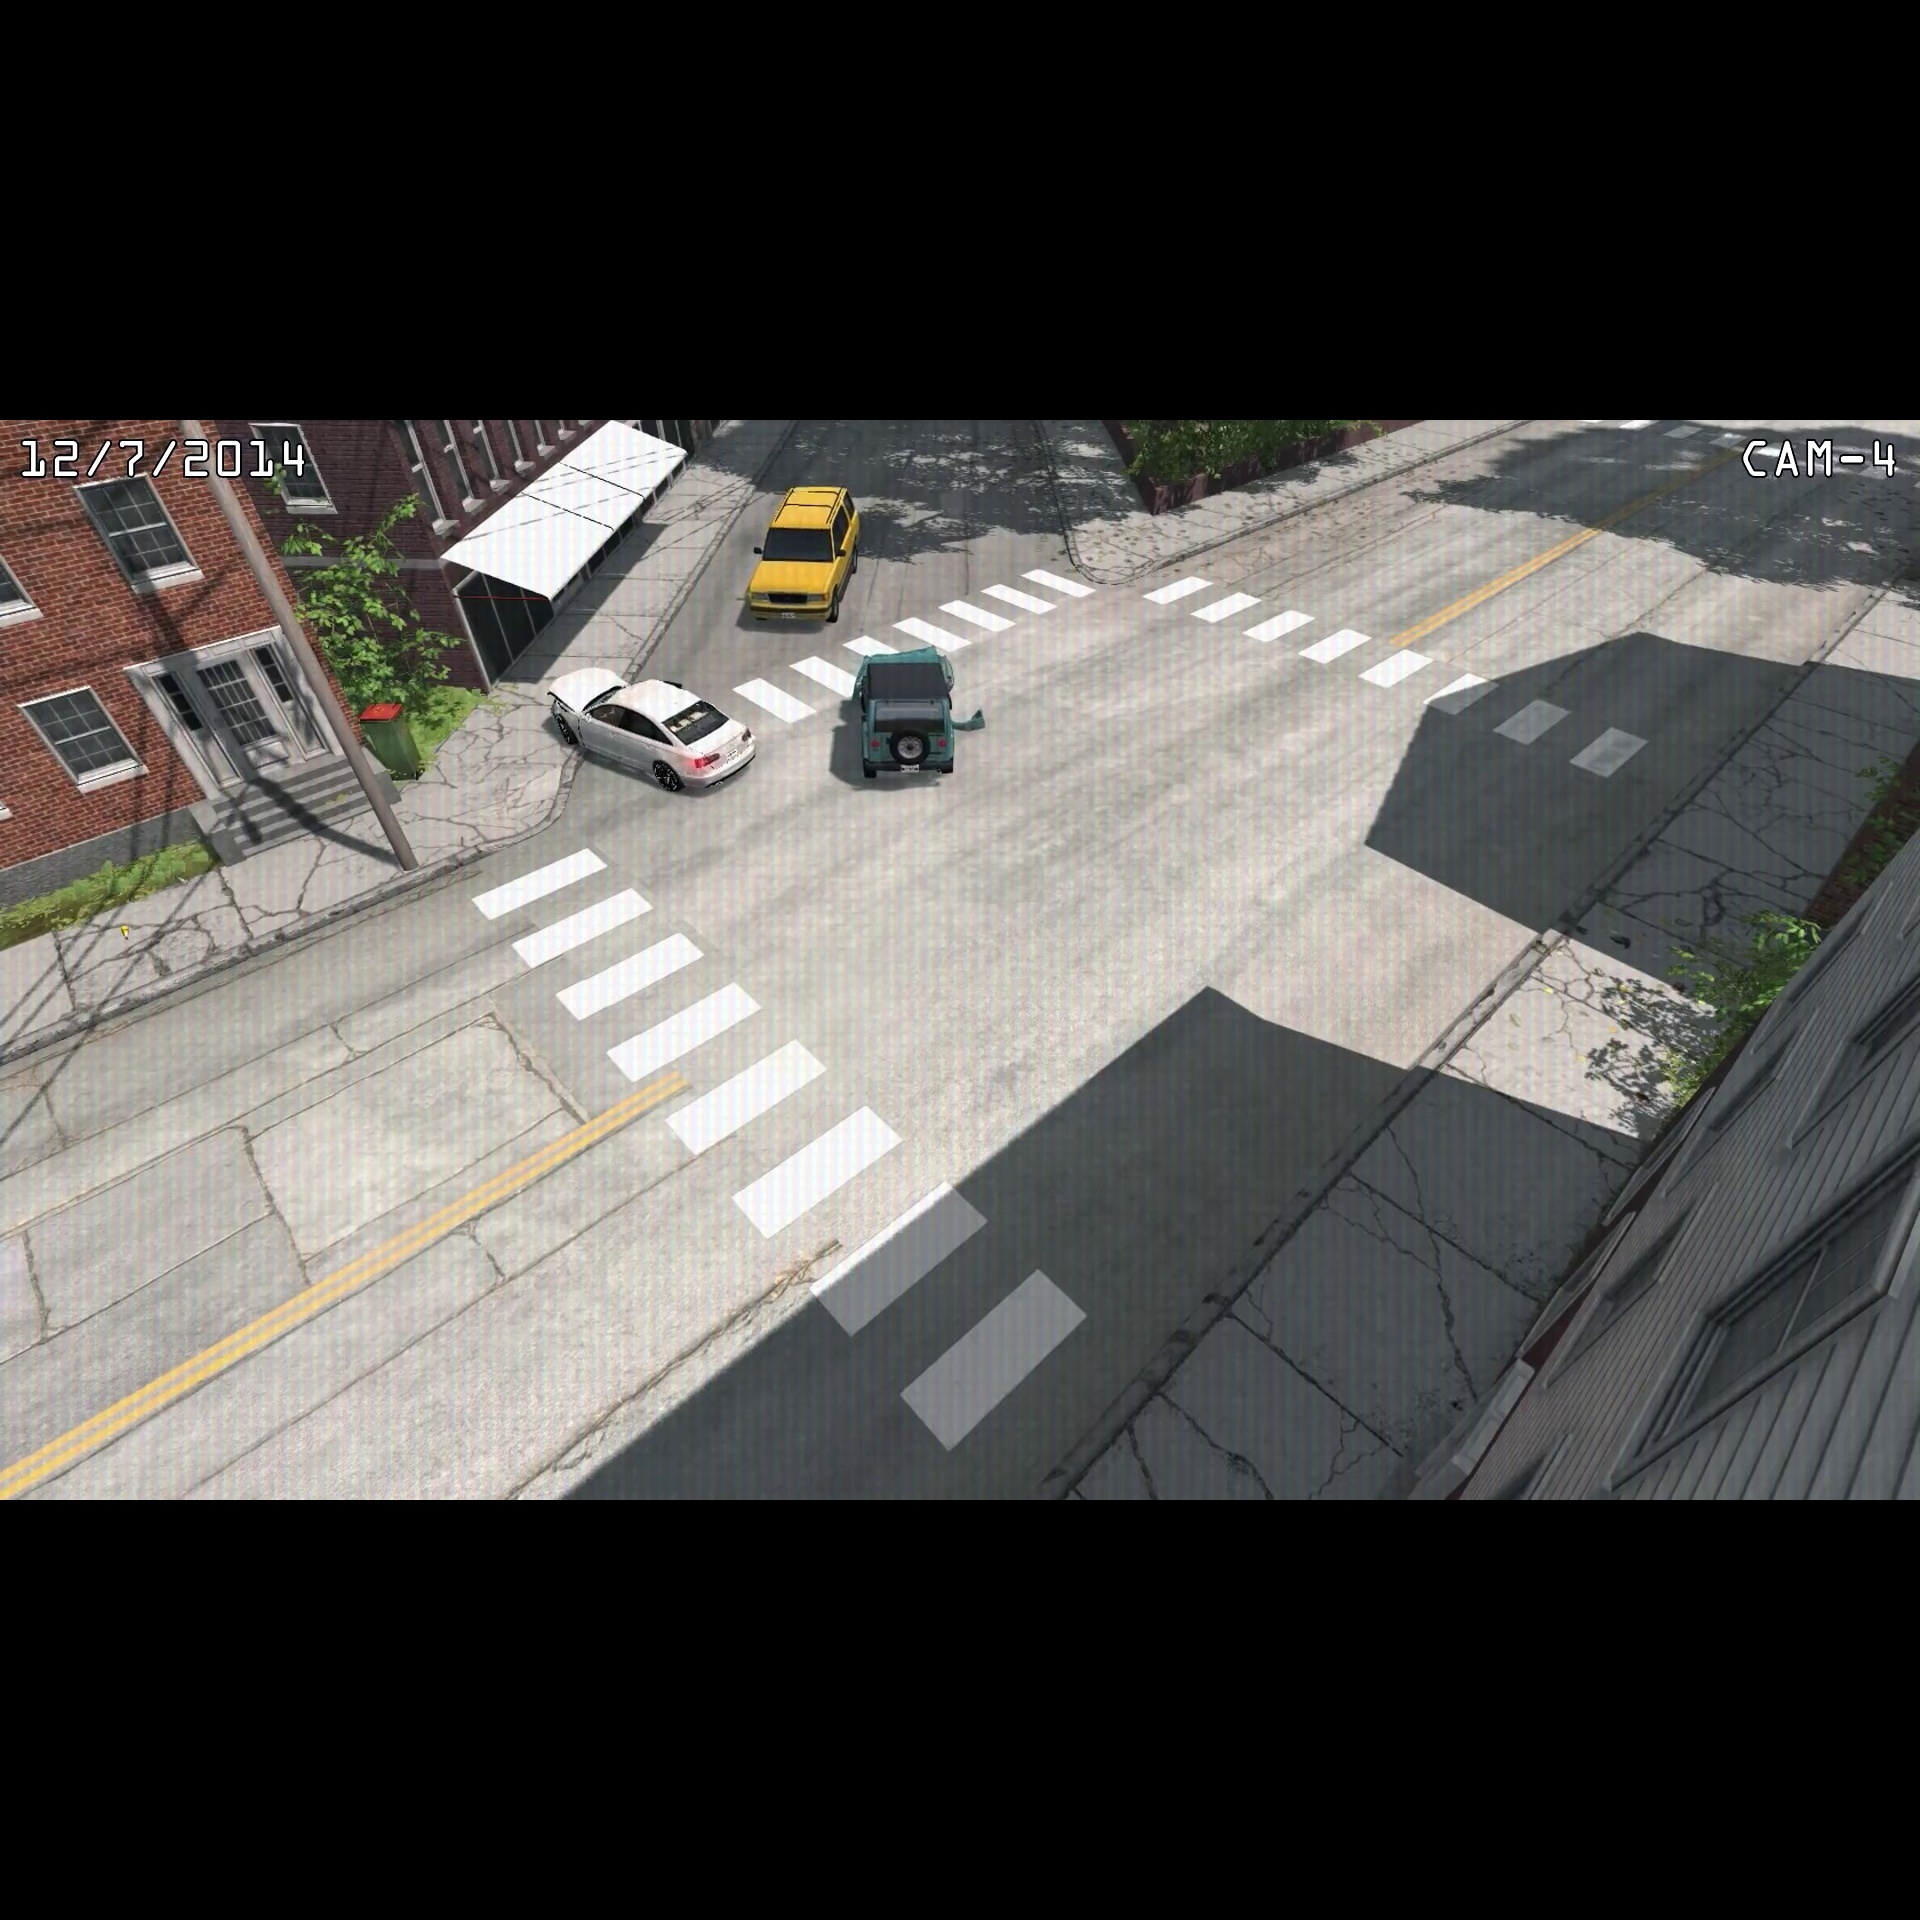vehicle: (542, 658, 763, 802), (742, 476, 867, 633), (851, 642, 969, 789)
